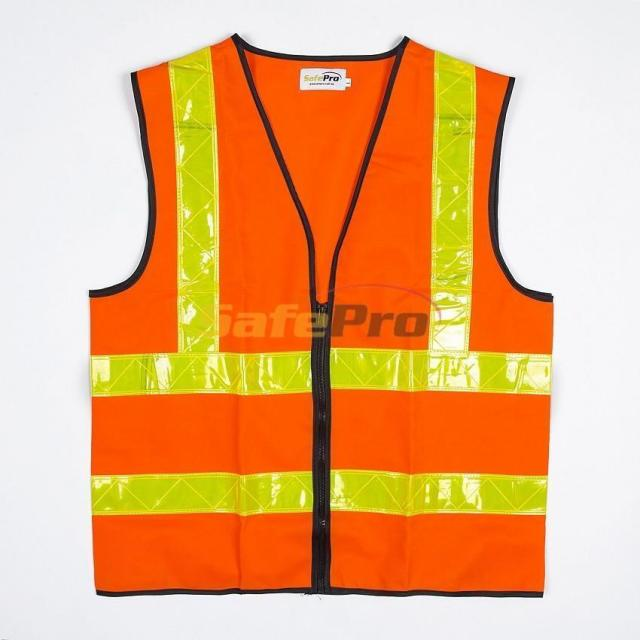vest: (85, 22, 556, 598)
